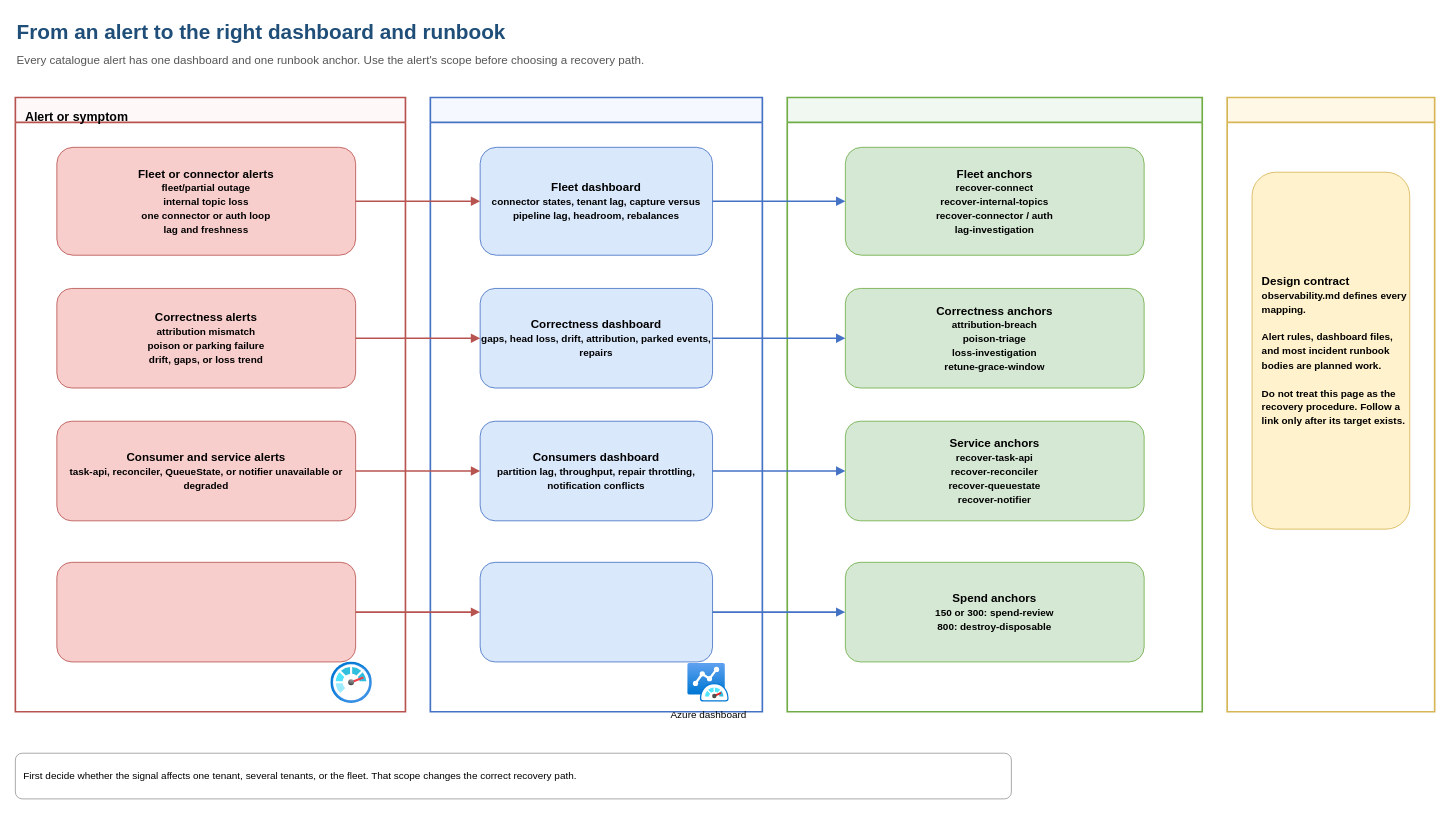
The diagram is 1449 pixels wide and 813 high, and some of its shapes have lost their labels. Each missing label, with the box of its shape:
Azure Monitor: (330, 662, 372, 703)
Implementation status: (1226, 96, 1435, 712)
Open this dashboard: (429, 96, 763, 712)
Spend alerts 150 GBP investigate 300 GBP discipline failed 800 GBP ceiling: (56, 561, 356, 662)
Spend dashboard actual cost against all three alert tiers: (479, 561, 713, 662)
Then use this runbook anchor: (786, 96, 1203, 712)
